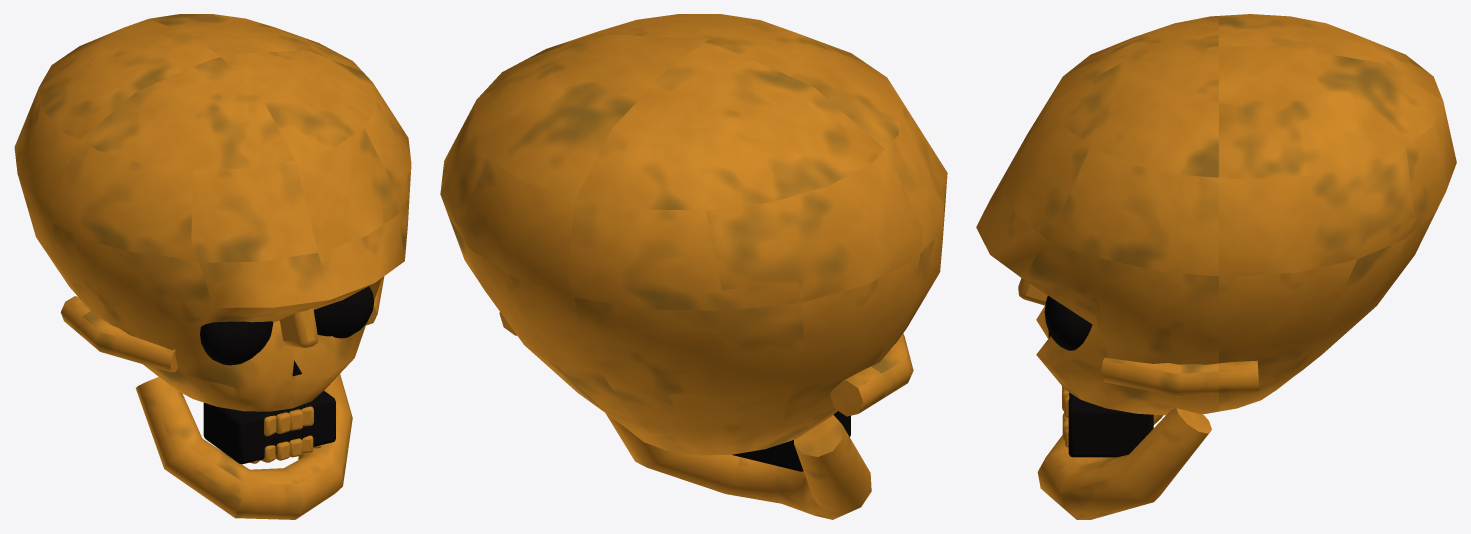
The model's file is powerup_insta_kill.glb.
The picture shows the model from 3 angles, left to right: view 1: azimuth 30°, elevation 25°; view 2: azimuth 150°, elevation 25°; view 3: azimuth 270°, elevation 25°; orthographic projection. The views are drawn at different scales.
Visible parts, largest first — view 1: InstaKill; view 2: InstaKill; view 3: InstaKill.
Boxes of the visible parts, left/top/right/bottom form: InstaKill: left=14, top=14, right=411, bottom=519; InstaKill: left=440, top=14, right=947, bottom=519; InstaKill: left=976, top=14, right=1456, bottom=519.
Bounding box in the file's own units: 0.392 × 0.4436 × 0.424.
Materials: 3 (1 with a texture image).
